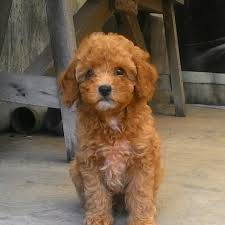Poodle: (38, 26, 185, 222)
